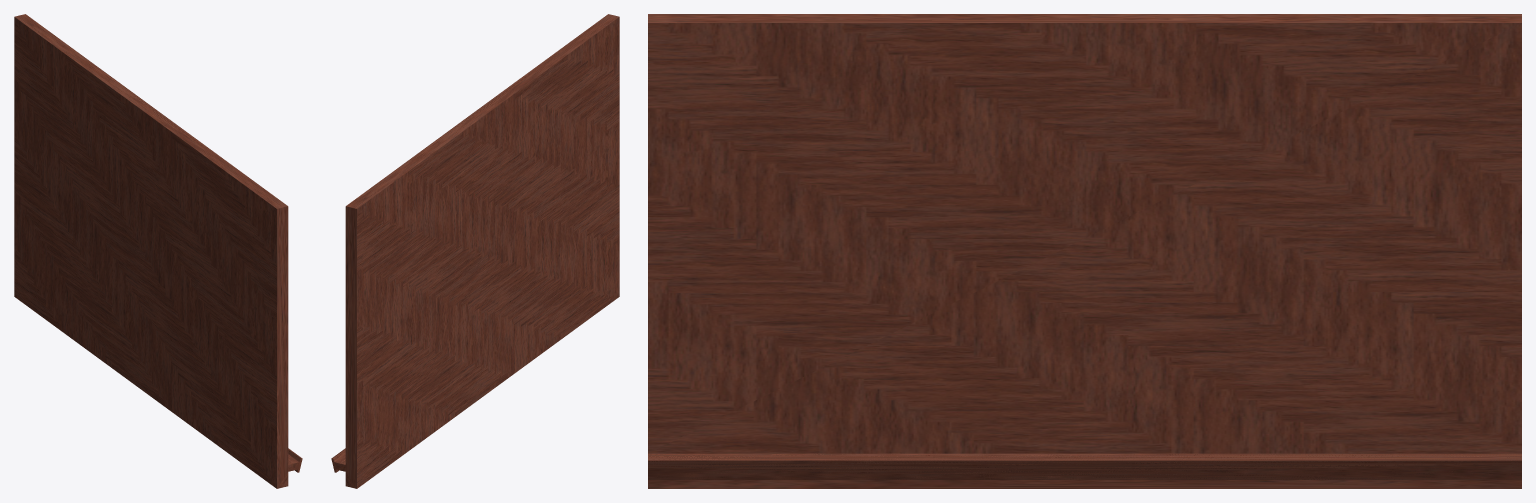
The model's file is dof_rootd_Bb001_r.processed.obj.
The picture shows the model from 3 angles, left to right: view 1: azimuth 30°, elevation 25°; view 2: azimuth 150°, elevation 25°; view 3: azimuth 270°, elevation 25°; orthographic projection. The views are drawn at different scales.
Size of the model in its own units: 0.0472 by 0.4913 by 0.8353.
Materials: 1 (1 with a texture image).
